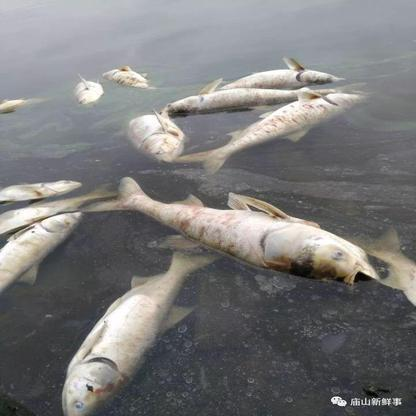deceased fish: (117, 178, 380, 286), (54, 252, 224, 416), (172, 90, 362, 173), (1, 211, 84, 296), (1, 187, 111, 233), (164, 82, 316, 111), (228, 64, 344, 91), (125, 111, 184, 163), (6, 176, 84, 200), (71, 73, 104, 110), (105, 66, 150, 90)
